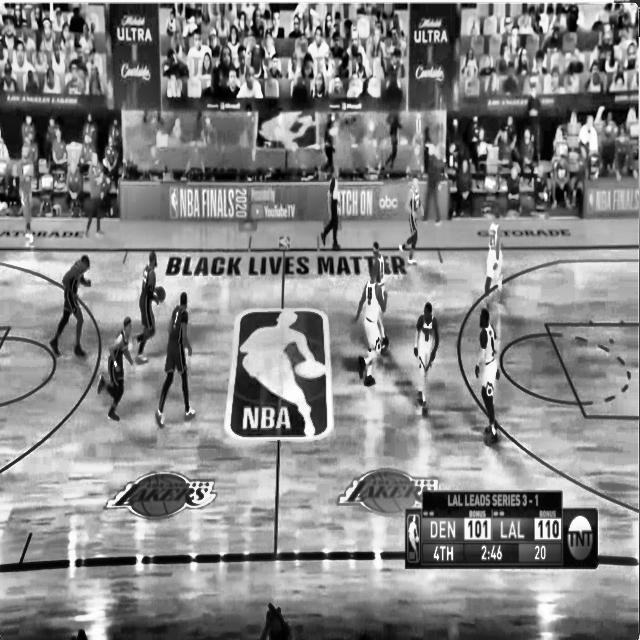Basketball: (155, 286, 165, 301)
